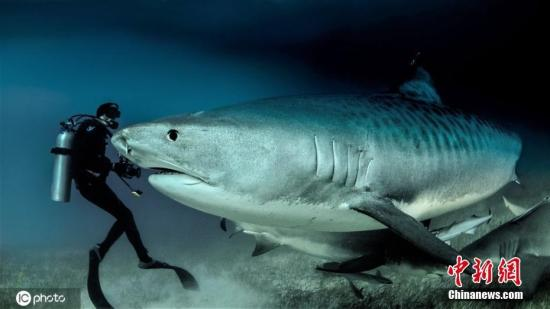shark: (111, 65, 527, 275)
